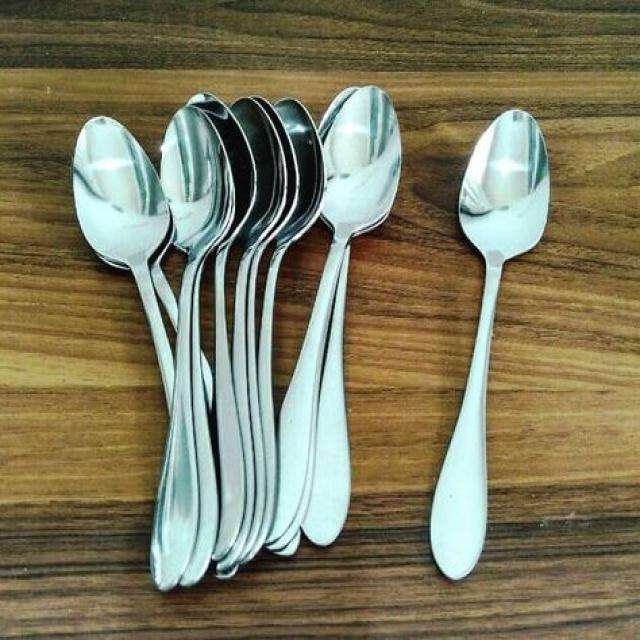spoon: (416, 89, 565, 613)
